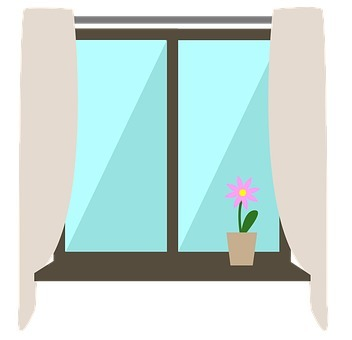pottedplant: (219, 170, 261, 271)
